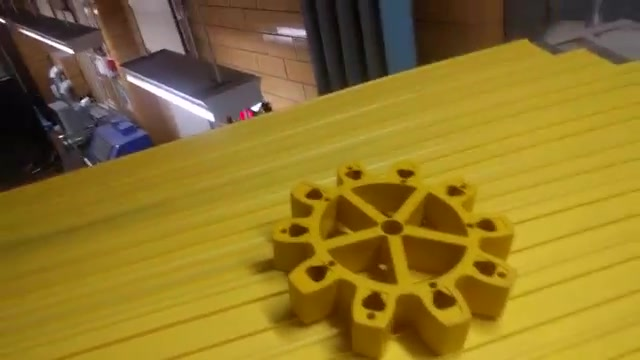gear: (256, 149, 530, 360)
